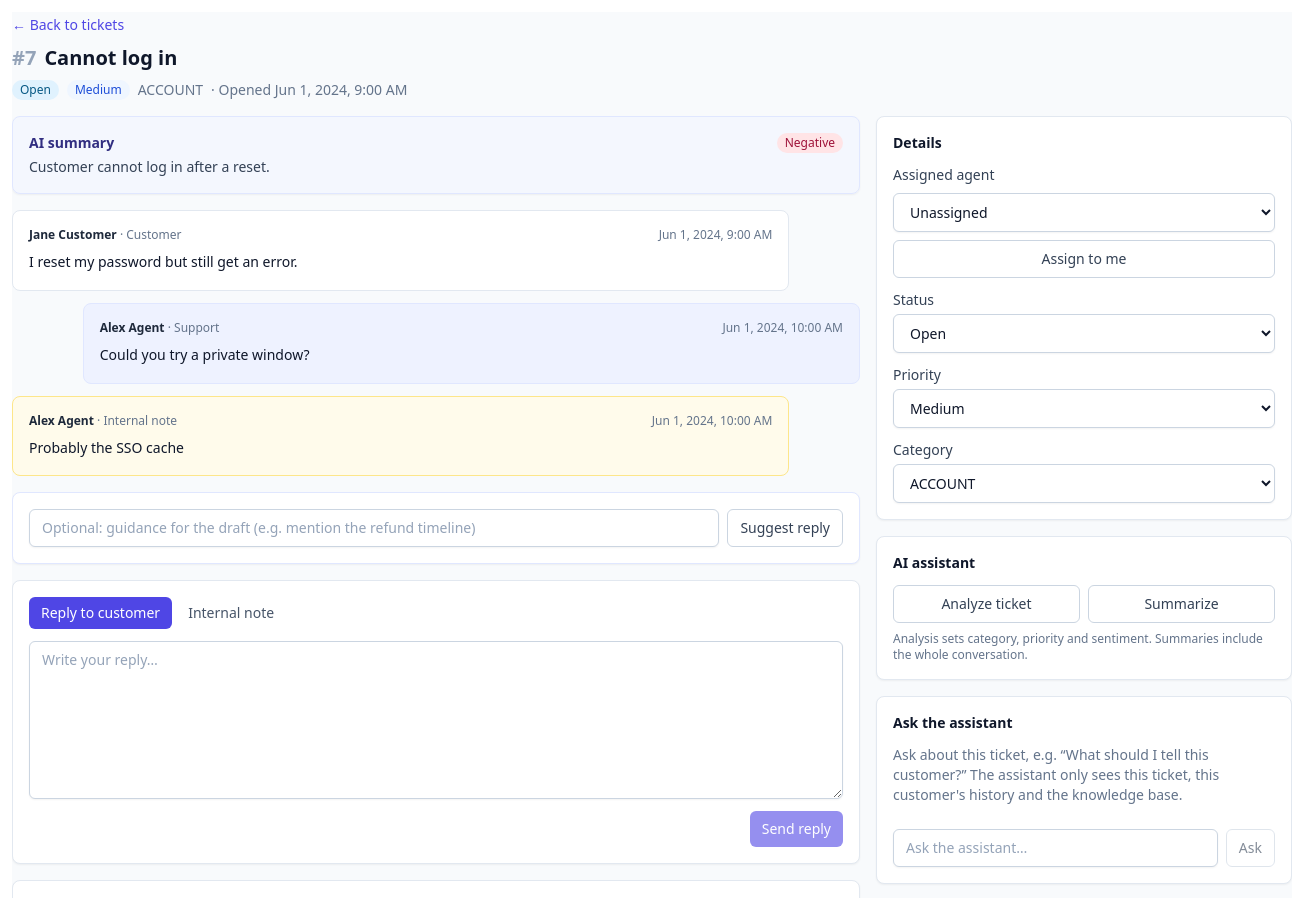
Test: TicketDetailPage for agents › shows an error when sending fails
Expected: the heading "#7Cannot log in" is shown, [12,44,177,71]
Type "Hello" into the text box labelled "reply" at (436, 720), box [29,641,843,799]
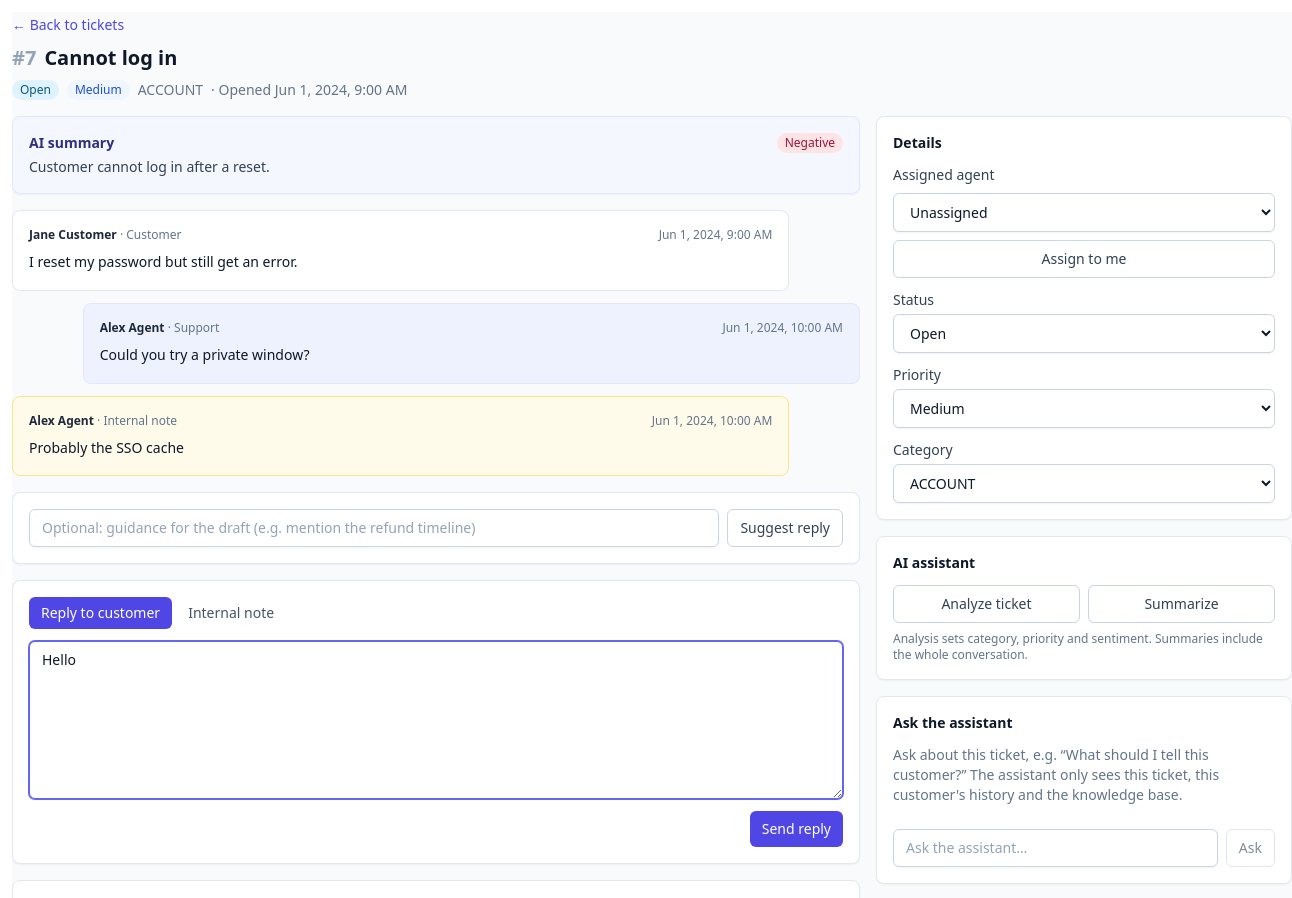
Click the button "Send reply" at (796, 829), box [750,811,843,847]
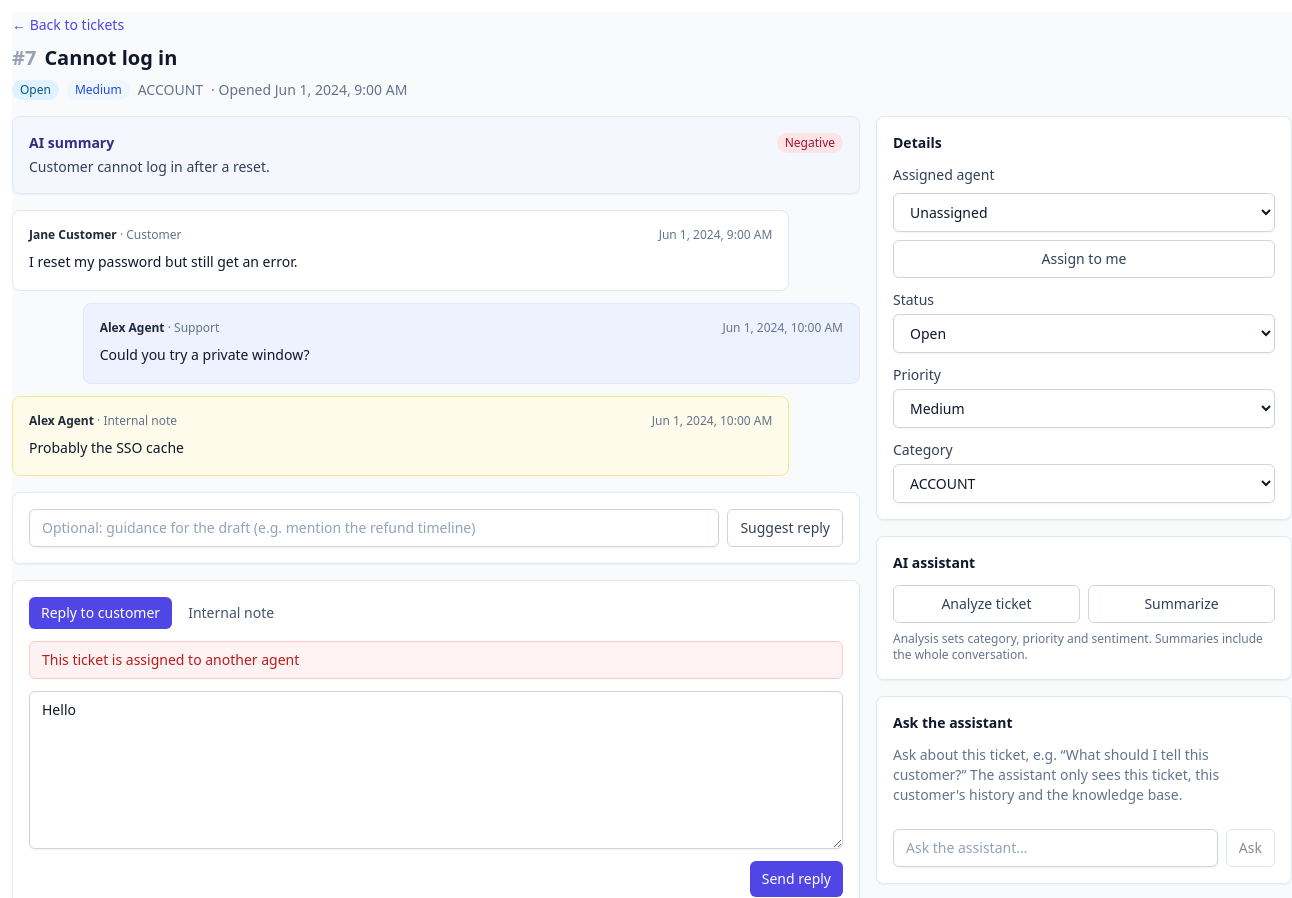
Now the text "This ticket is assigned to another agent" is shown, box [29,641,843,679]
